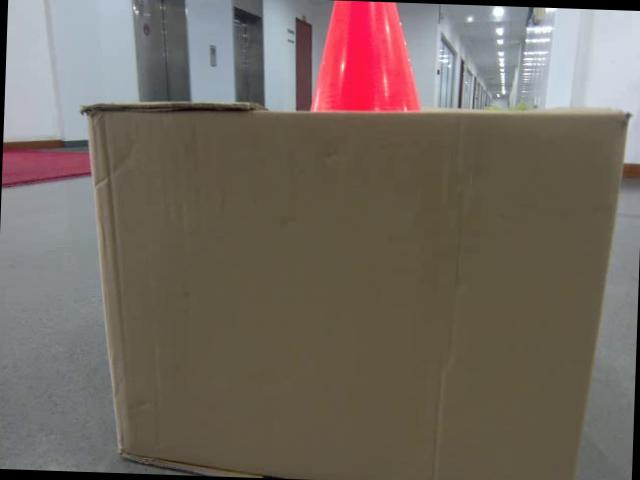orange_barrel: (305, 0, 429, 115)
